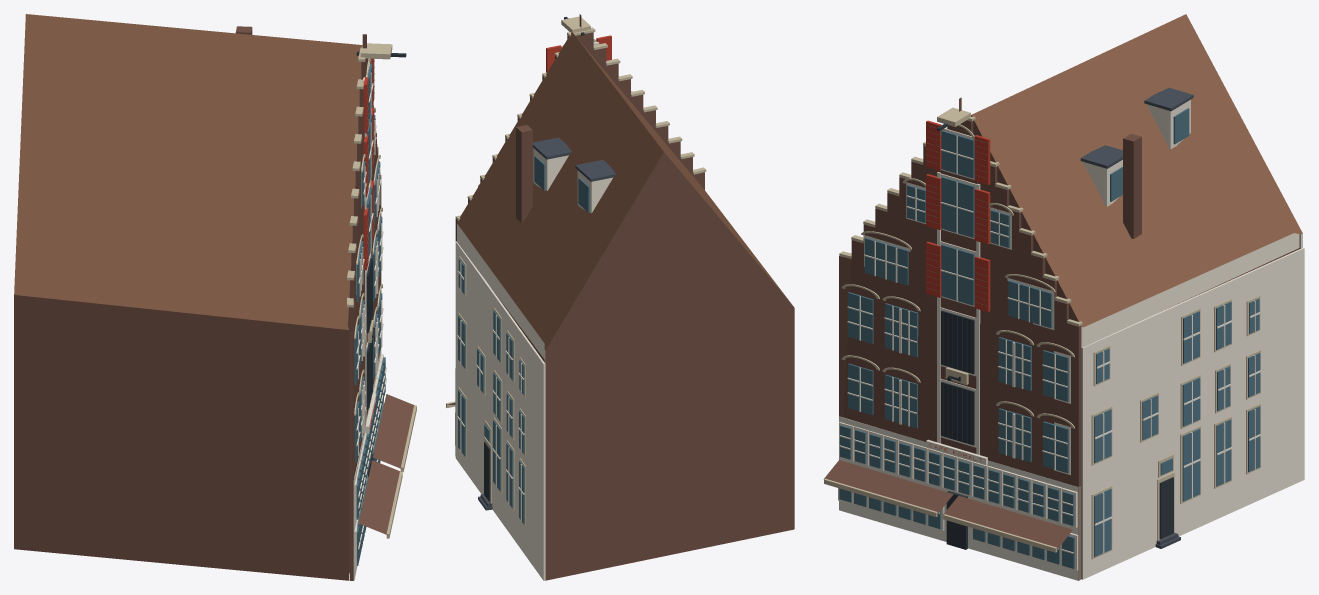
File: cafe-kobalt.glb
The picture shows the model from 3 angles, left to right: view 1: azimuth 30°, elevation 25°; view 2: azimuth 150°, elevation 25°; view 3: azimuth 270°, elevation 25°; orthographic projection. The views are drawn at different scales.
Parts seen in each view (by area): view 1: cafe-kobalt; view 2: cafe-kobalt; view 3: cafe-kobalt.
Part boxes in pixels (x1,y1,x2,y2): cafe-kobalt: (14, 14, 416, 580); cafe-kobalt: (446, 14, 794, 580); cafe-kobalt: (823, 14, 1304, 580).
Bounding box in the file's own units: 16.46 × 18.8 × 18.35.
